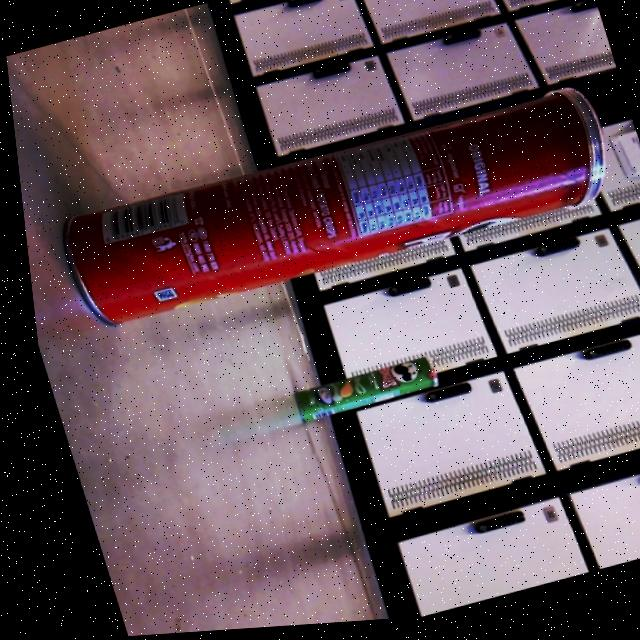greenpringles: (270, 356, 443, 441)
redpringles: (29, 73, 637, 352)
